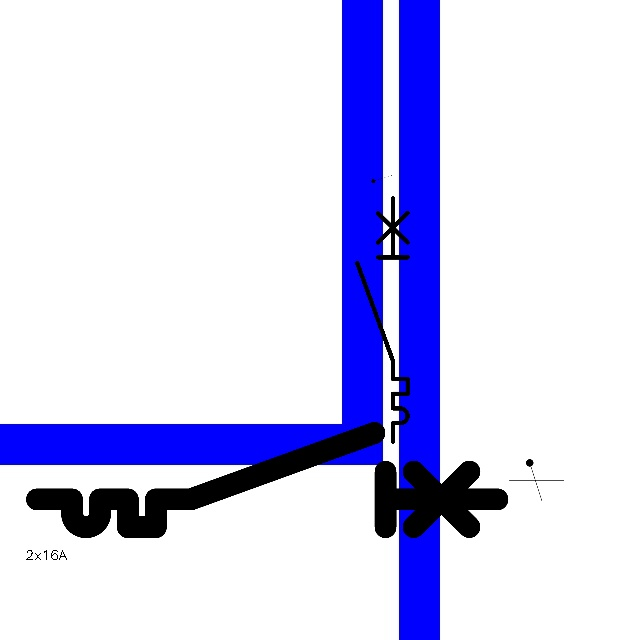interruptor_termomagnetico: (25, 421, 509, 539), (351, 192, 414, 448)
